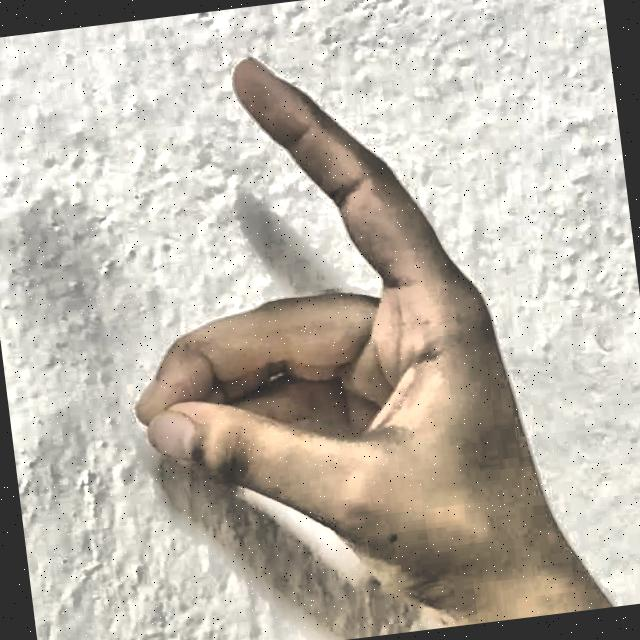Dha: (67, 4, 601, 640)
